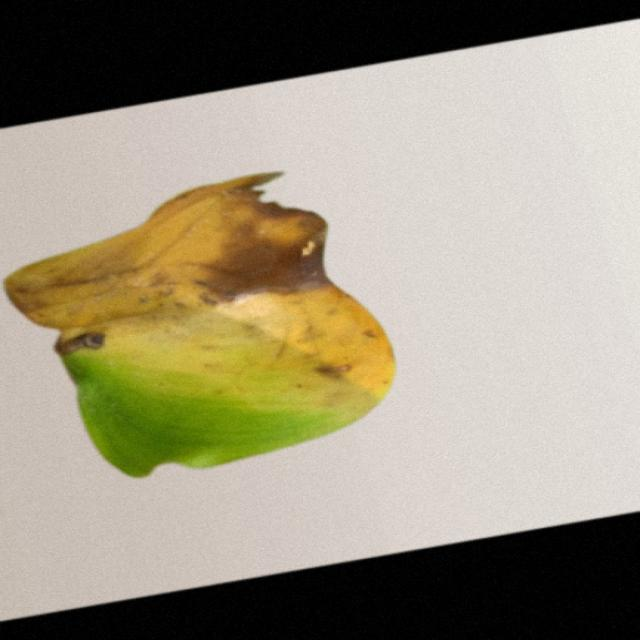daun berpenyakit kuning: (7, 172, 393, 476)
